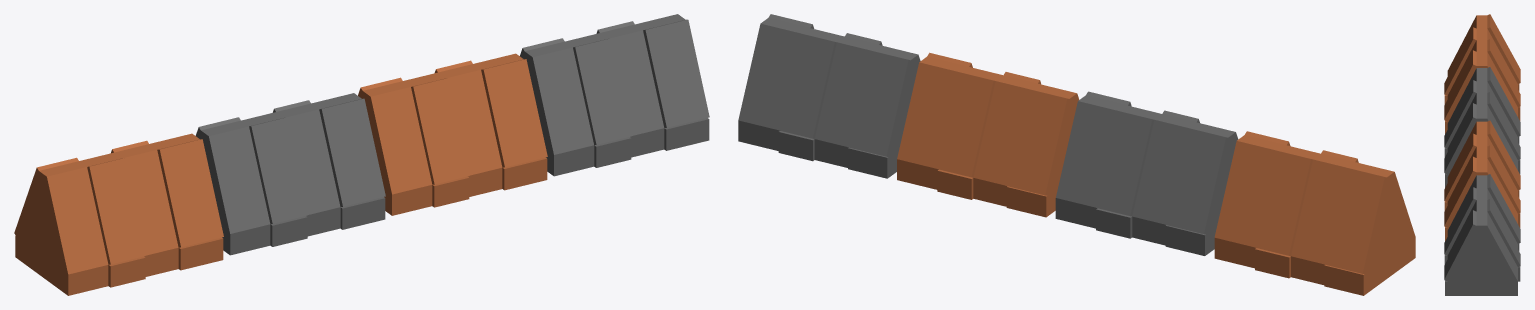
File: barricade1.fbx
3 views of the same model, side by side, from view 1: azimuth 30°, elevation 25°; view 2: azimuth 150°, elevation 25°; view 3: azimuth 270°, elevation 25° (orthographic). The views are drawn at different scales.
Visible parts, largest first — view 1: Cube.001, Cube.007, Cube.003, Cube.002; view 2: Cube.001, Cube.007, Cube.003, Cube.002; view 3: Cube.003, Cube.002, Cube.007, Cube.001.
Part boxes in pixels (left/top/right/bottom): Cube.001: left=14, top=133, right=223, bottom=295; Cube.007: left=195, top=93, right=385, bottom=255; Cube.003: left=520, top=14, right=709, bottom=176; Cube.002: left=358, top=53, right=547, bottom=215; Cube.001: left=1214, top=131, right=1415, bottom=295; Cube.007: left=1055, top=91, right=1238, bottom=255; Cube.003: left=738, top=14, right=920, bottom=178; Cube.002: left=897, top=52, right=1079, bottom=217; Cube.003: left=1444, top=174, right=1520, bottom=295; Cube.002: left=1444, top=120, right=1520, bottom=240; Cube.007: left=1444, top=67, right=1520, bottom=187; Cube.001: left=1444, top=14, right=1520, bottom=133.
Size of the model in its own units: 519 by 82.85 by 79.58.
